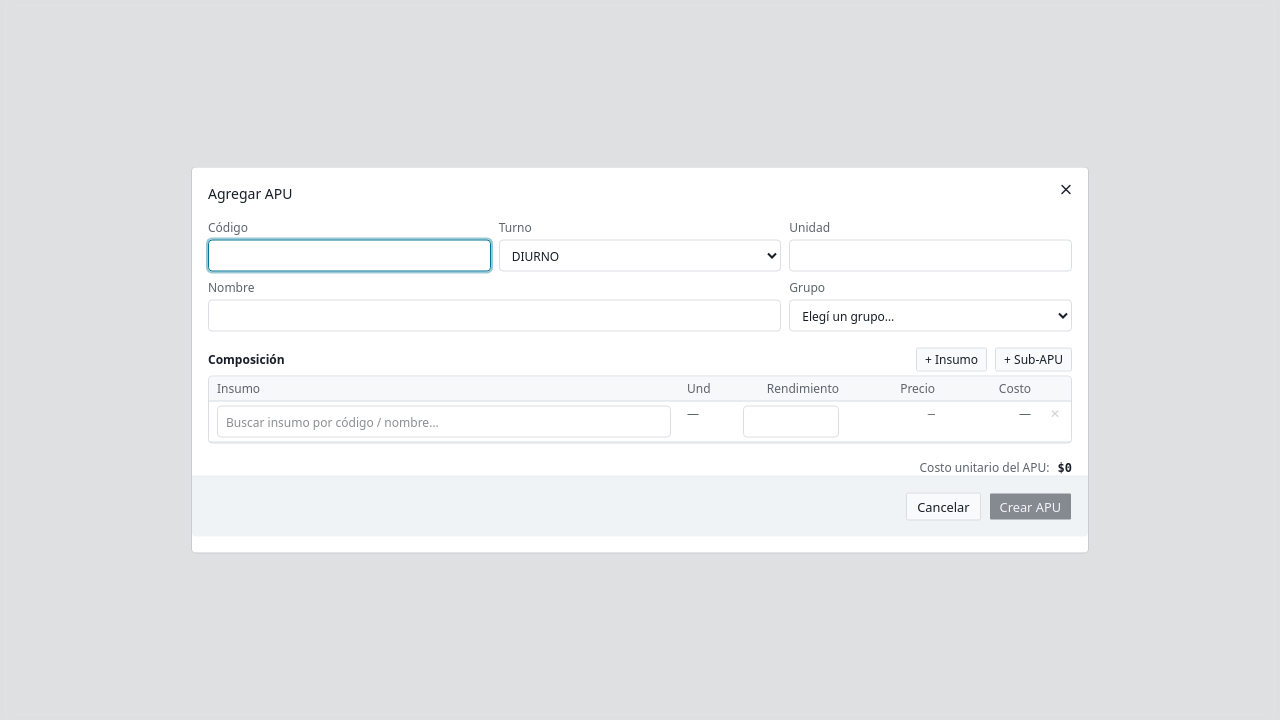
Test: '+ Sub-APU' agrega una fila con BuscadorApu y al elegir muestra el chip APU
Click the button "+ Sub-APU" at point(1034, 360), box [995,348,1072,372]
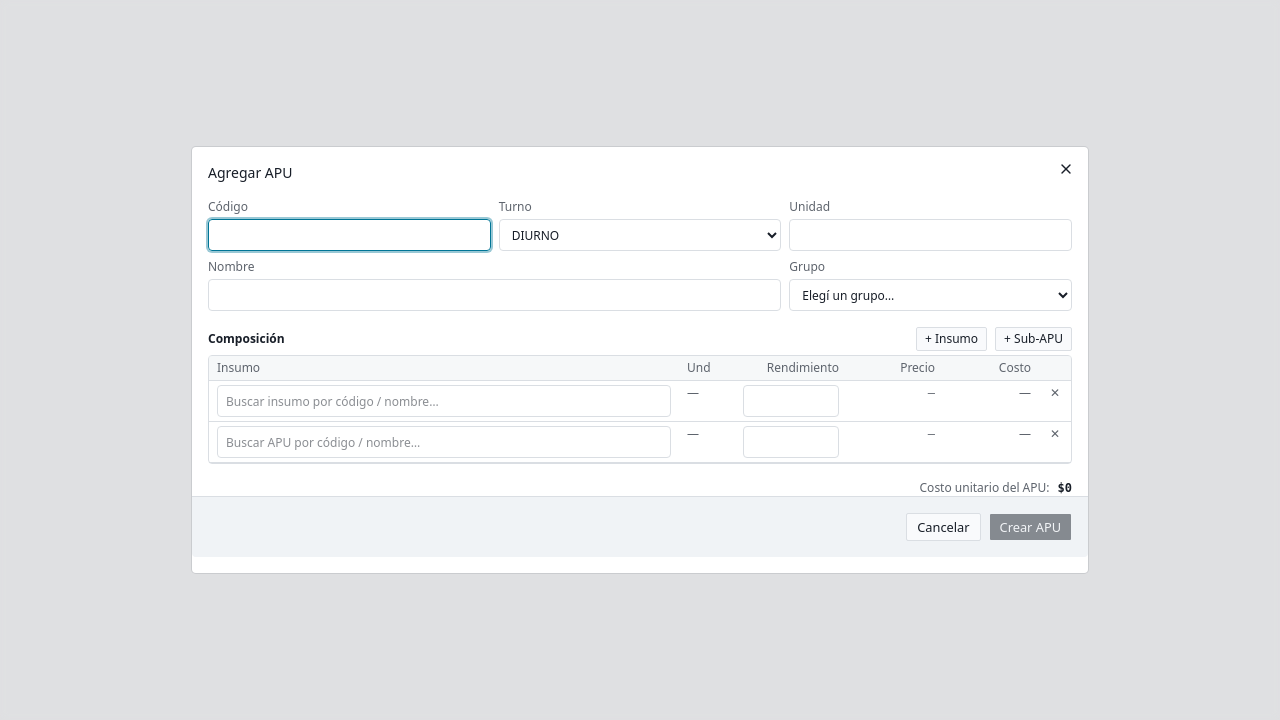
Type "900" into the field with placeholder "Buscar APU por código / nombre…" at point(444, 442), box [217,426,671,458]
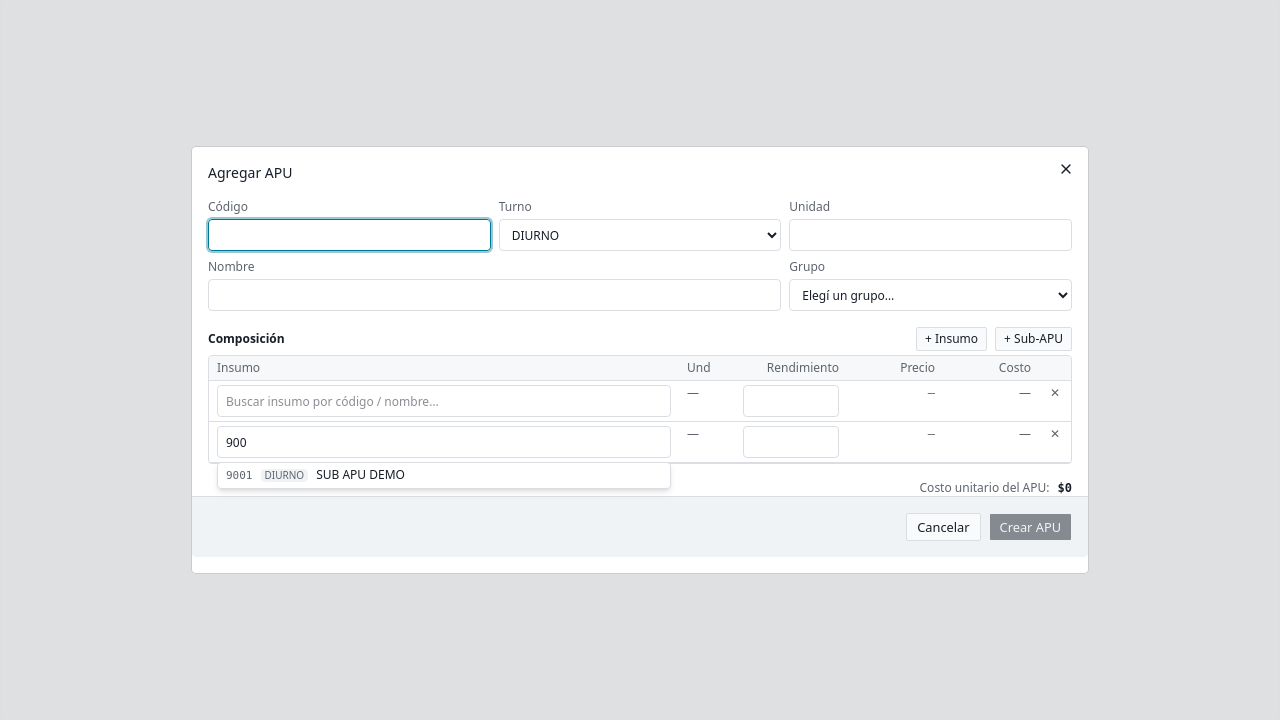
Click the text "SUB APU DEMO" at point(360, 475), box [316,467,405,483]
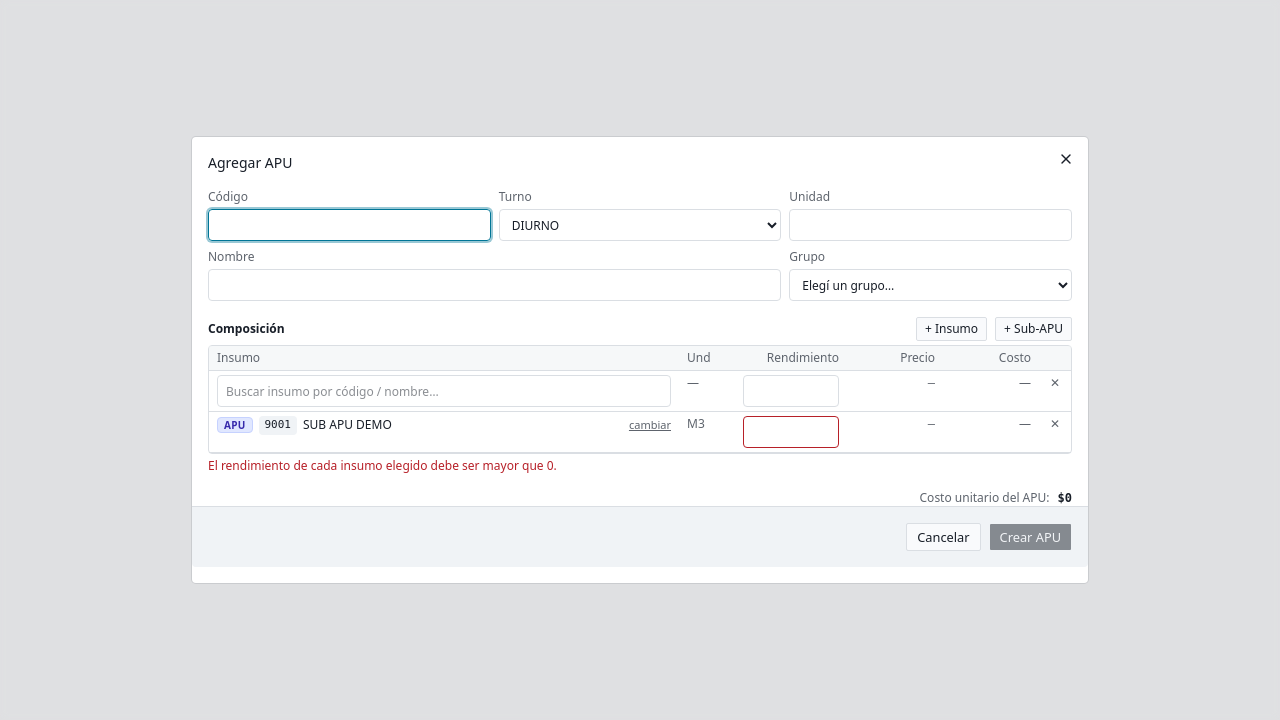
Expected: the text "9001" is shown, [258,416,297,435]
Expected: the text "APU" is shown, [217,417,252,433]
